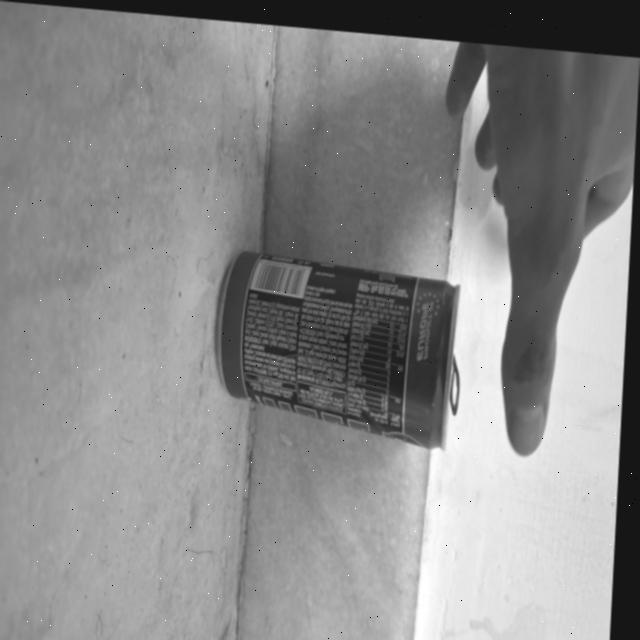Hell Apple: (198, 183, 483, 462)
